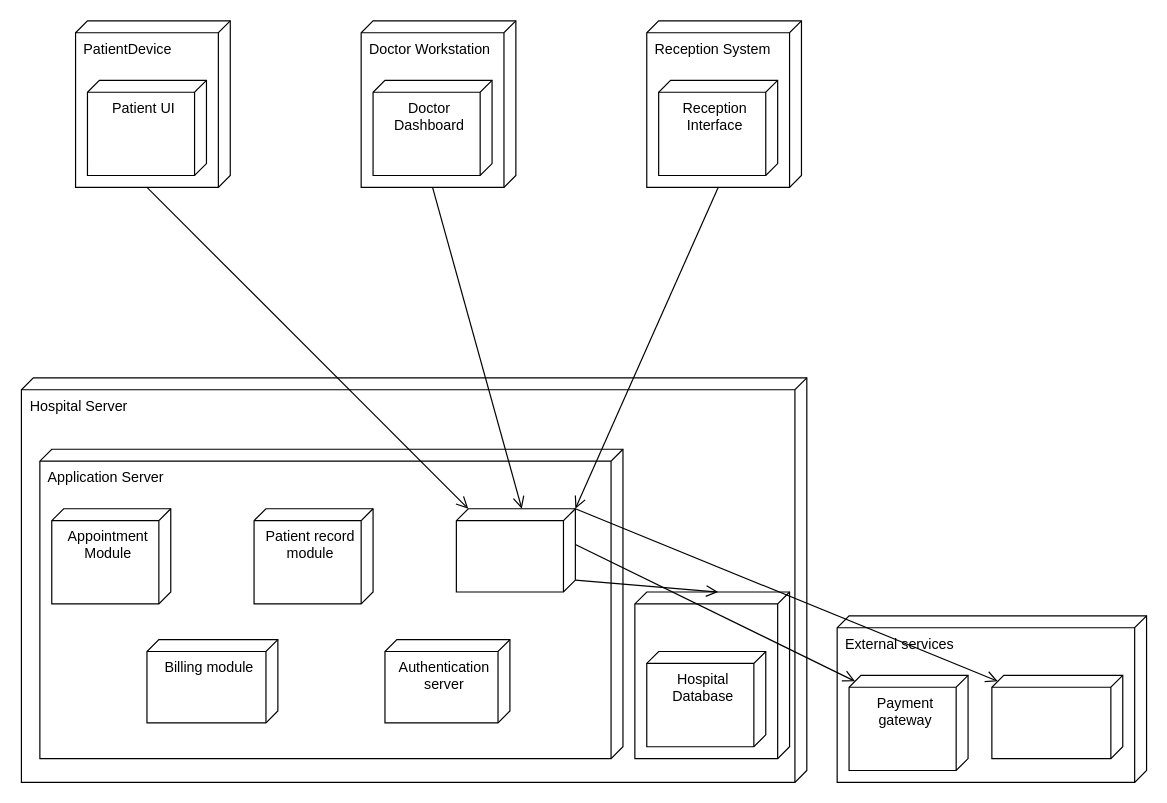
This 1167x803 diagram has some shape labels left out. Each missing label, with the centre of its shape:
"Database server" belongs at (712,675).
"HMS web application" belongs at (515,550).
"SMS / Email / Notification Services" belongs at (1057,716).
